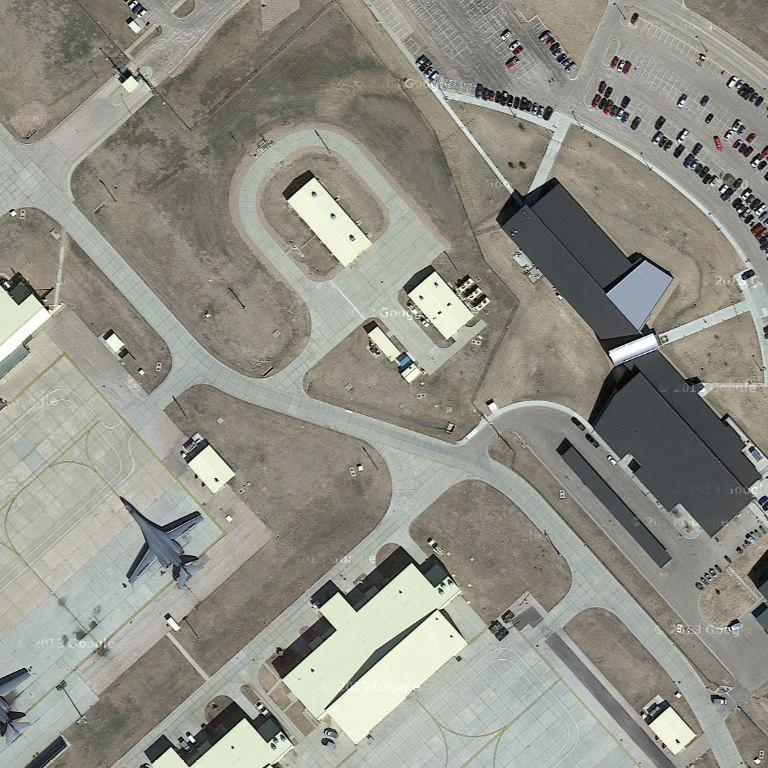B-1B: (116, 495, 208, 589)
